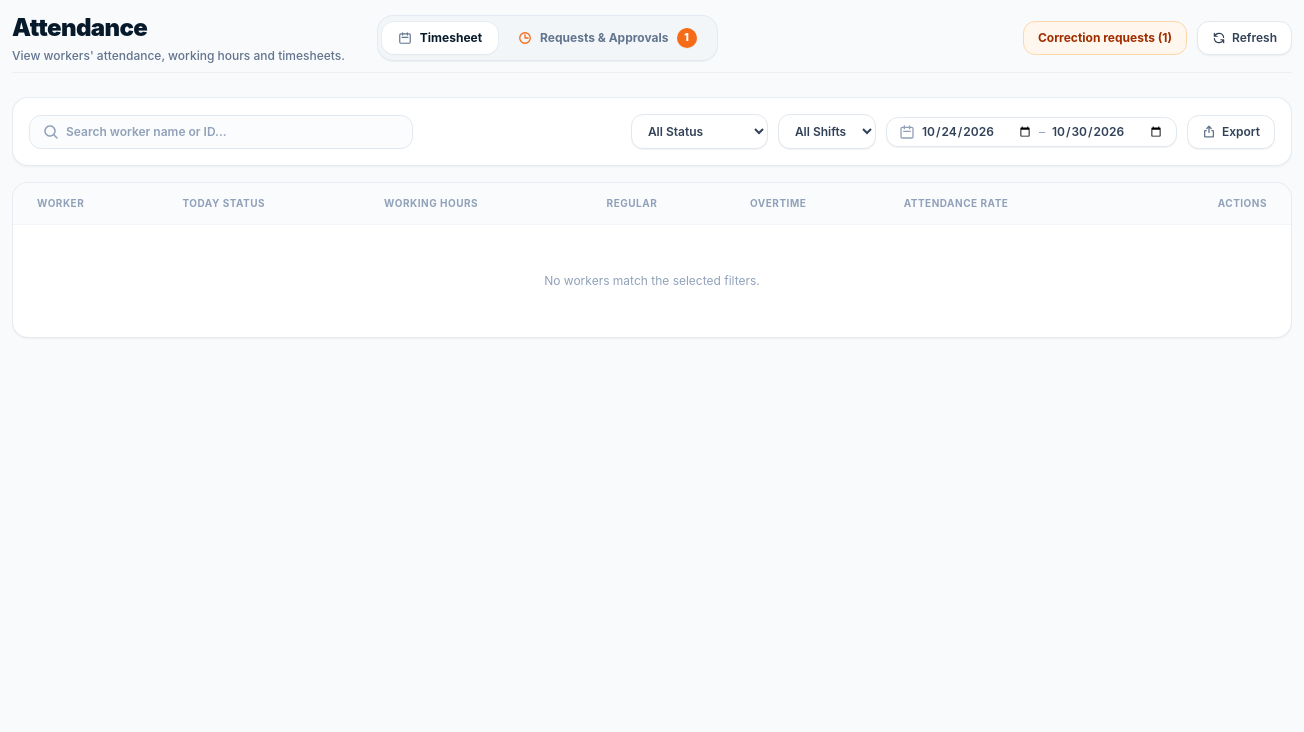
Test: separates pending corrections from approved and rejected history
Expected: the text "Approved request" is not shown
Expected: the text "Rejected request" is not shown
What coordinates should you click on to do the following:
click the button "Requests & Approvals 1"
I would click on:
 (607, 38)
Its box is [502,20,712,56].
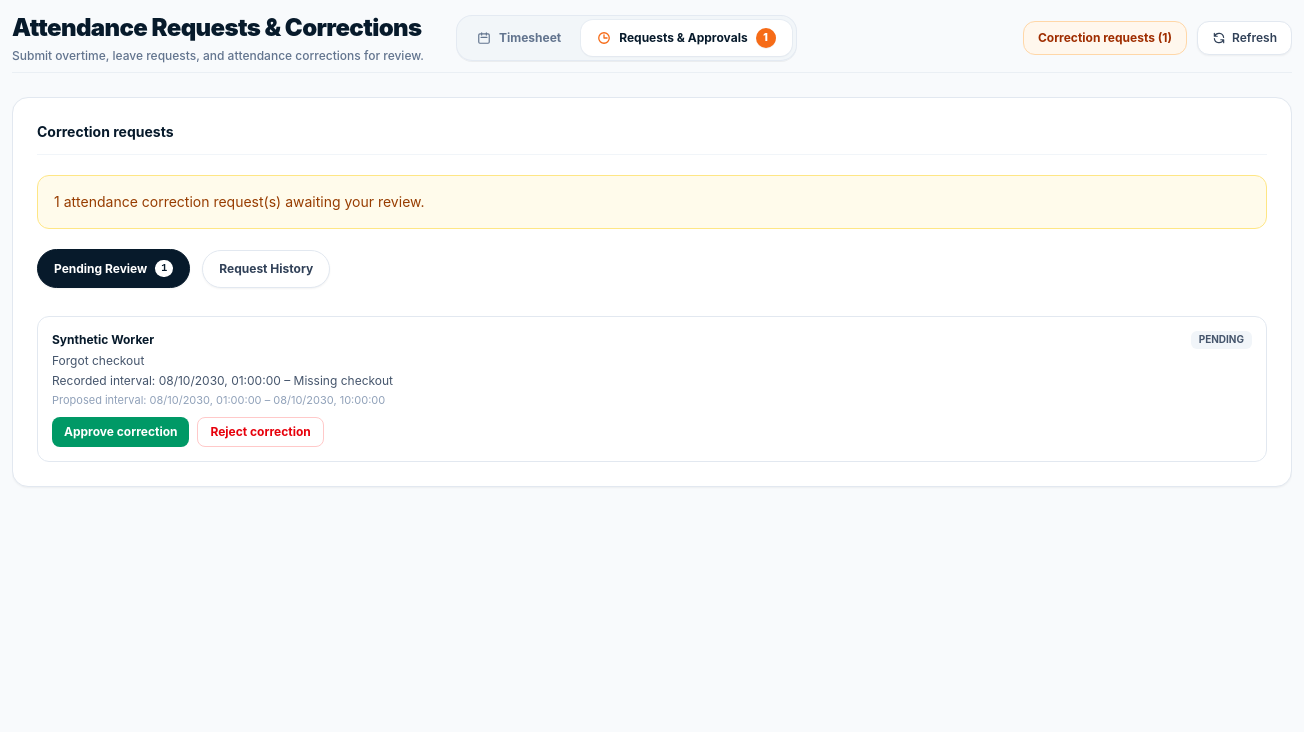
What coordinates should you click on to do the following:
click the tab "Request History"
I would click on:
 (266, 269)
Its box is [202,250,330,288].
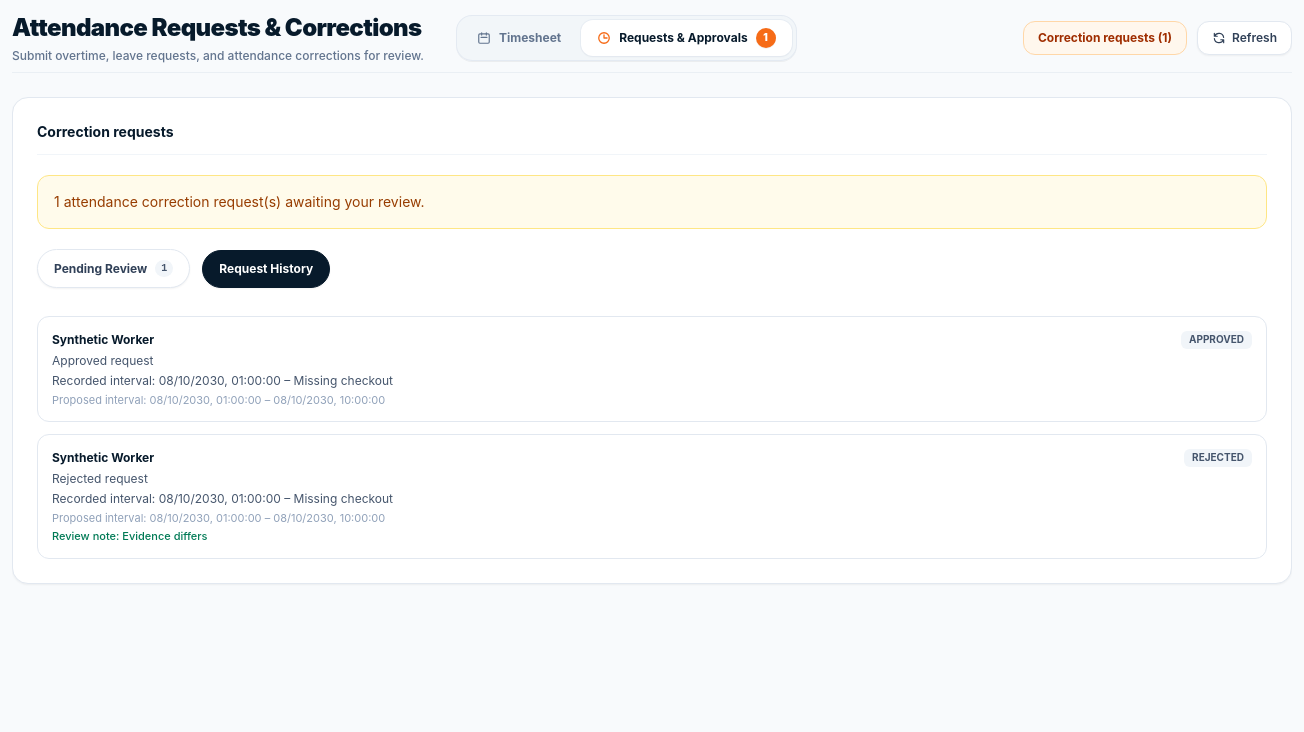
Result: the text "Approved request" is shown at [52,353,154,368]
Result: the text "Rejected request" is shown at [52,471,148,486]
Result: the text "Forgot checkout" is gone
What coordinates should you click on to do the following:
click the link "Correction requests (1)"
I would click on:
 (1105, 38)
Its box is [1023,21,1187,55].
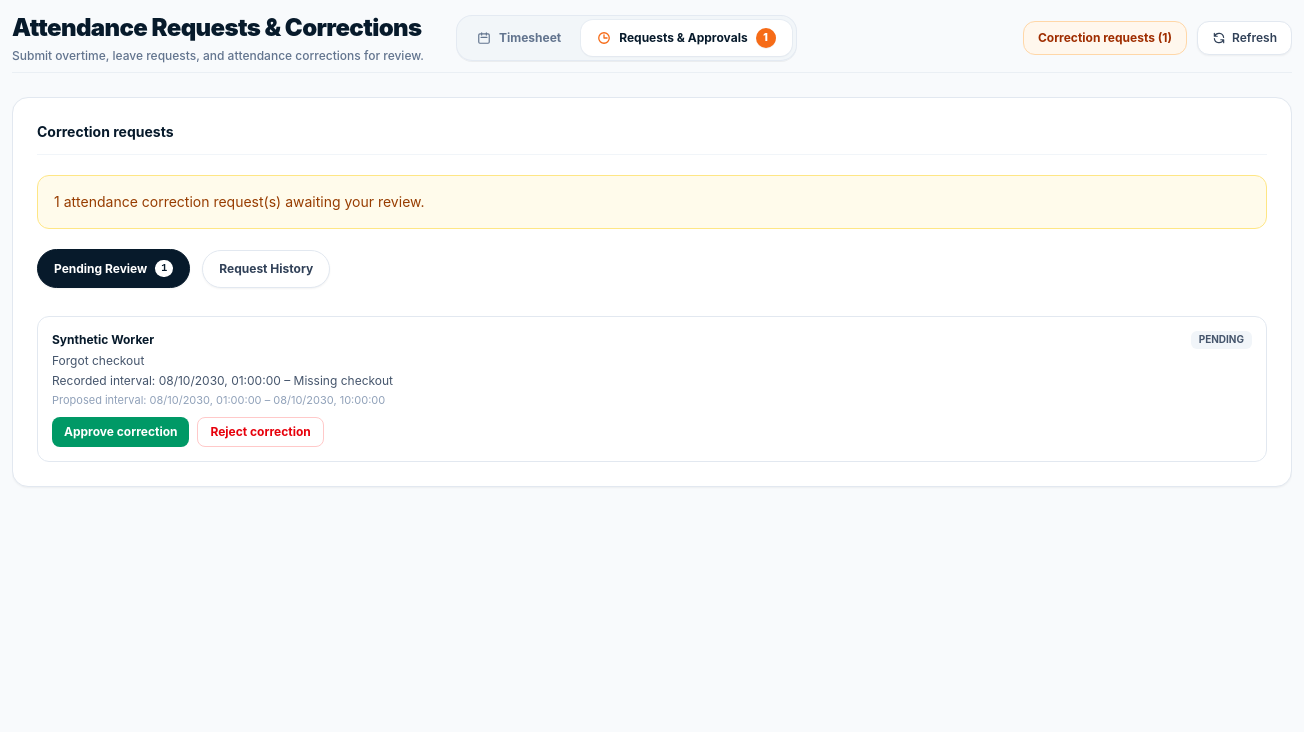
Result: the text "Forgot checkout" is shown at [52,353,144,368]
